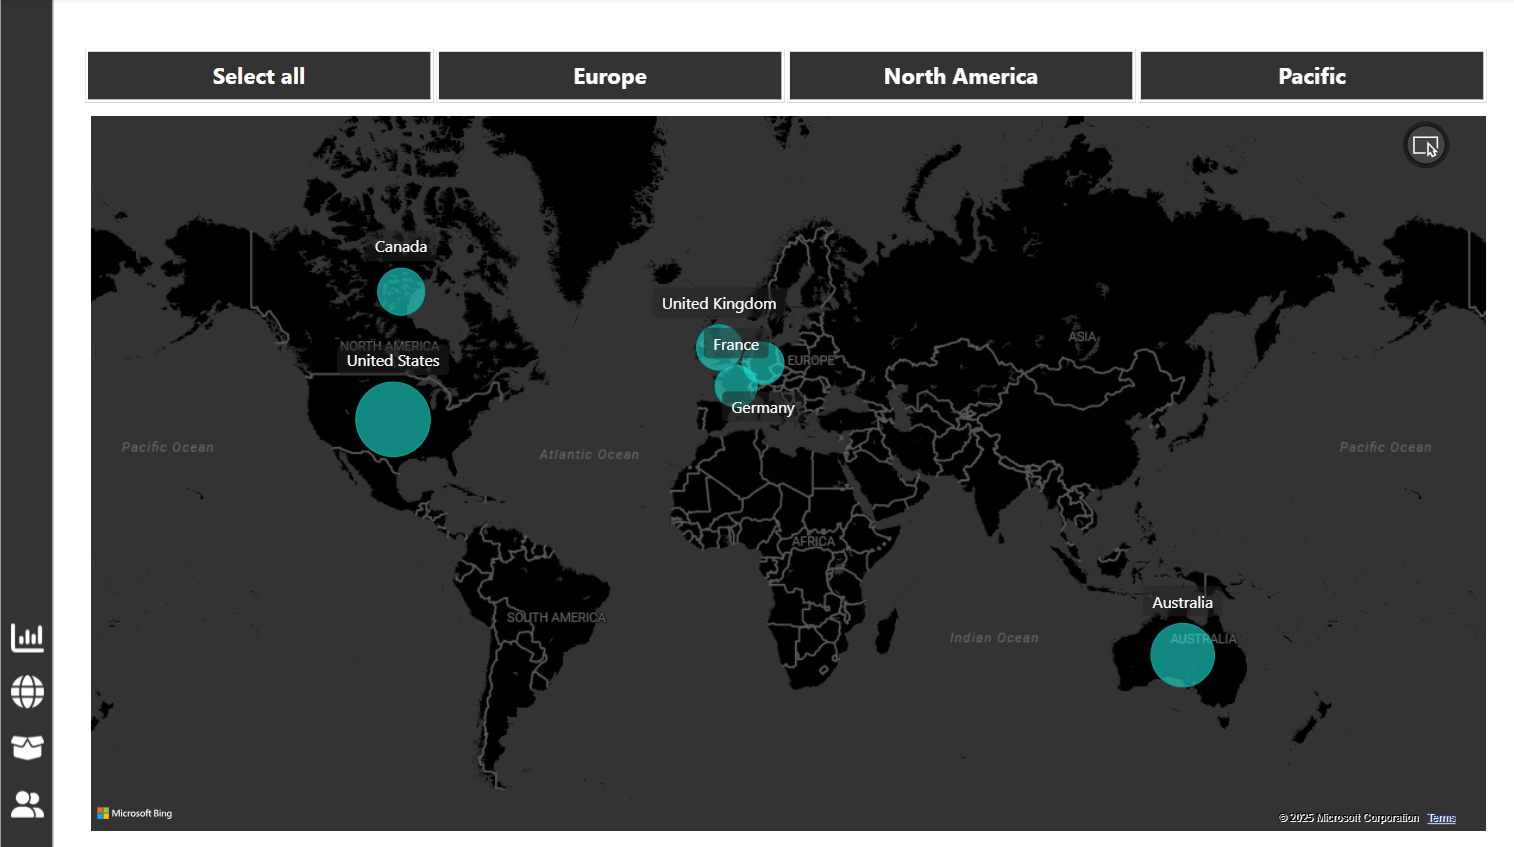

What the dashboard file says about the page in this screenshot:
{"tool":"powerbi","page":{"name":"Map","canvas":[1280,720],"ordinal":1},"visuals":[{"type":"shape","box":[0,0,45,720.2],"z":0},{"type":"actionButton","box":[5.2,520.4,45.2,35.7],"z":0,"group":"g1"},{"type":"actionButton","box":[5.2,565.6,45.2,35.7],"z":1000,"group":"g1"},{"type":"map","fields":{"Category":["Territory Lookup.Country"],"Size":["Measuer Table.Total Order"]},"box":[71.5,94.6,1182.8,610.9],"z":1000},{"type":"slicer","fields":{"Values":["Territory Lookup.Continent"]},"box":[45.2,22.1,1229.1,72.5],"z":2000},{"type":"actionButton","box":[5.2,660.2,45.2,35.7],"z":2000,"group":"g1"},{"type":"actionButton","box":[5.2,612.9,45.2,35.7],"z":3000,"group":"g1"},{"type":"group","id":"g1","title":"Navigation buttons","box":[5.2,520.4,45.2,175.6],"z":3000}]}

Visuals, with their boxes on the page's 1280x720 design canvas (x1, y1, x2, y2). These are canvas units, not pixel positions in the 1514x847 screenshot, which may show the page scaled, cropped or inside an application window:
shape: <box>0,0,45,720</box>
actionButton: <box>5,520,50,556</box>
actionButton: <box>5,566,50,601</box>
map - Territory Lookup.Country x Measuer Table.Total Order: <box>72,95,1254,706</box>
slicer - Territory Lookup.Continent: <box>45,22,1274,95</box>
actionButton: <box>5,660,50,696</box>
actionButton: <box>5,613,50,649</box>
"Navigation buttons" group: <box>5,520,50,696</box>
